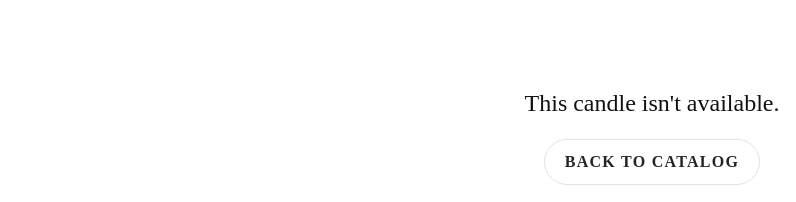
The product page is never blank › a candle that doesn't exist: says so and links back to the catalogue
Expected: the heading "This candle isn't available." is shown, top-left (524, 90), bottom-right (779, 116)
Click the link "Back to catalog" at (652, 162), box top-left (544, 139), bottom-right (760, 185)
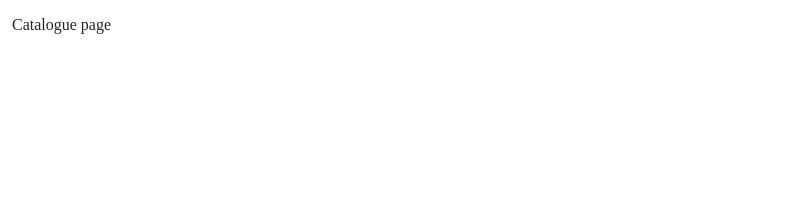
Expected: the text "Catalogue page" is shown, top-left (12, 16), bottom-right (111, 33)
